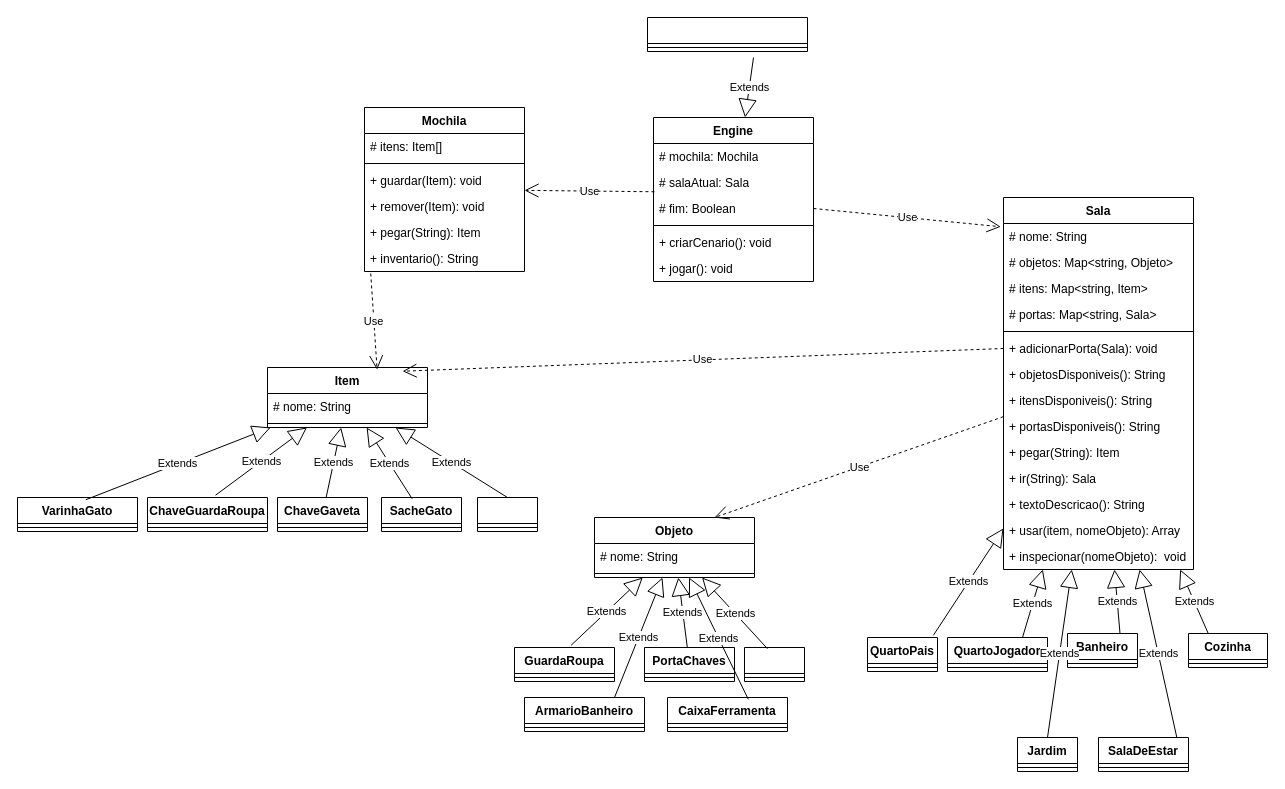
This 1285x789 diagram has some shape labels left out. Each missing label, with the centre of its shape:
"JogoDemo" belongs at point 727,34.
"Lanterna" belongs at point 507,514.
"Mesa" belongs at point 774,664.
